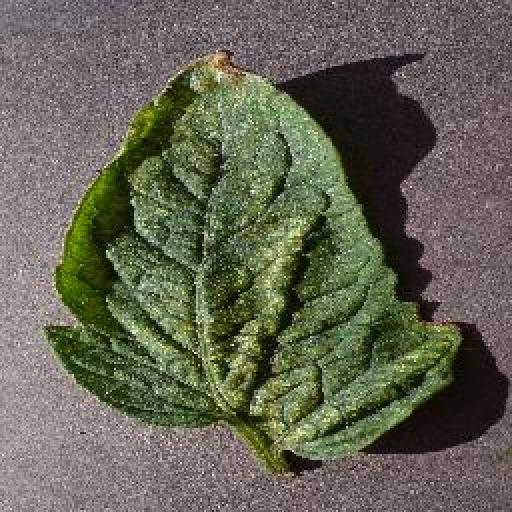disease_tomato: (44, 48, 462, 462)
